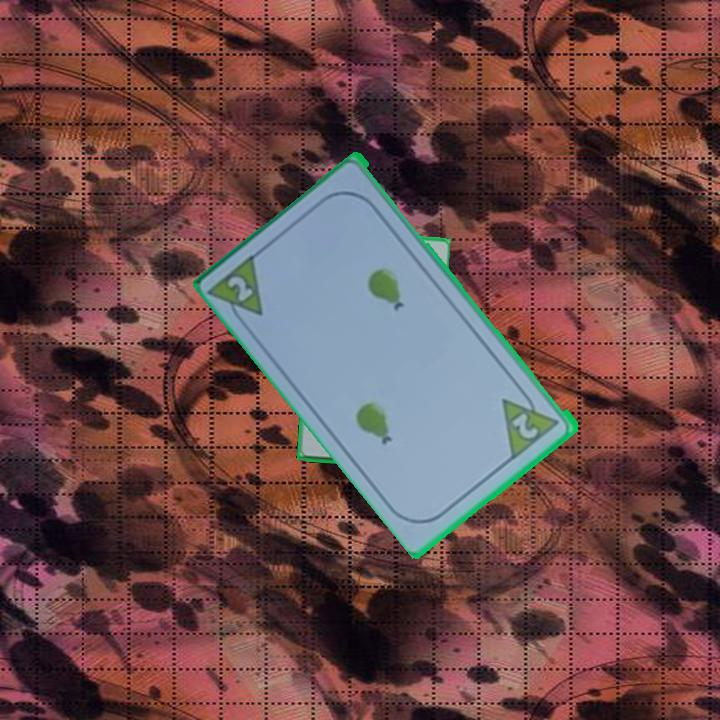2p: (206, 249, 267, 332), (509, 409, 542, 443)
